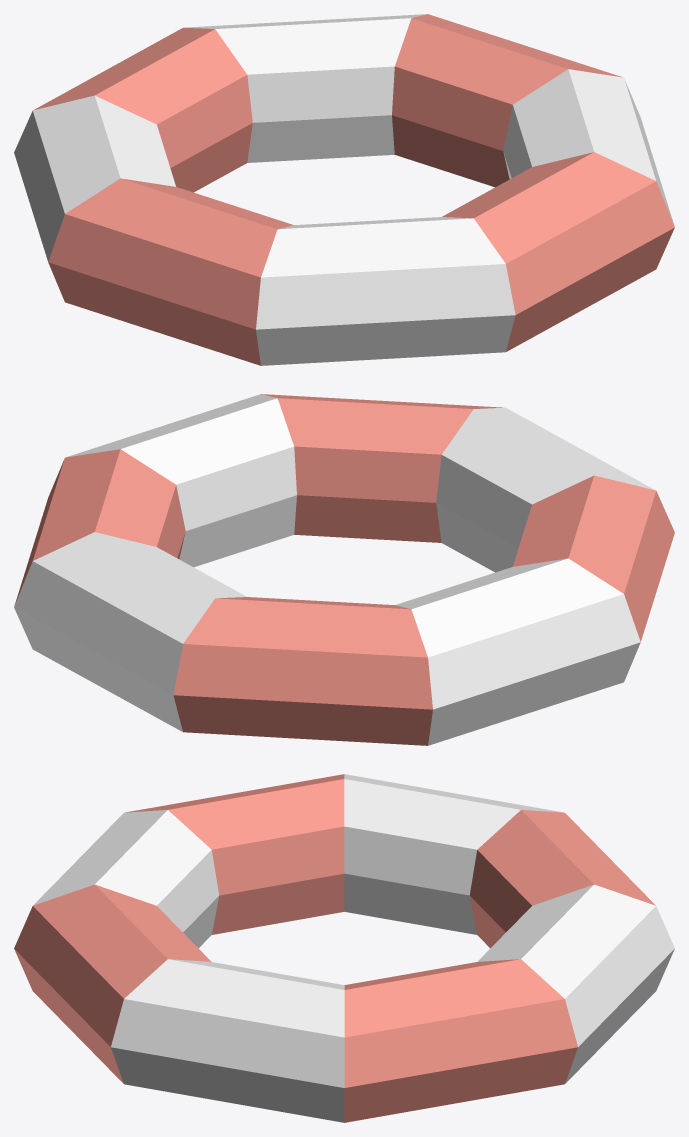
File: Lifebuoy.fbx
The picture shows the model from 3 angles, top to bottom: view 1: azimuth 30°, elevation 25°; view 2: azimuth 150°, elevation 25°; view 3: azimuth 270°, elevation 25°; orthographic projection. The views are drawn at different scales.
Visible parts, largest first — view 1: Lifebuoy; view 2: Lifebuoy; view 3: Lifebuoy.
Part boxes in pixels (left/top/right/bottom): Lifebuoy: left=14, top=14, right=674, bottom=365; Lifebuoy: left=14, top=394, right=674, bottom=745; Lifebuoy: left=14, top=774, right=674, bottom=1122.
Bounding box in the file's own units: 0.4152 × 0.0887 × 0.4152.
